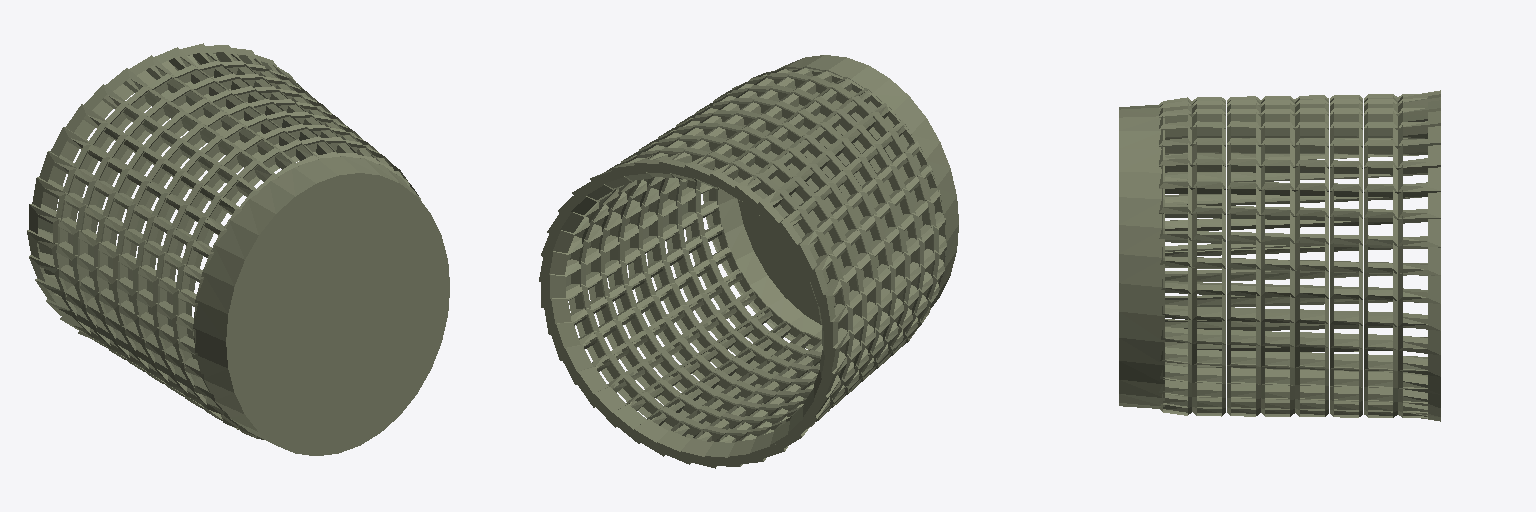
Rendered from LIXEIRA2a.obj.
3 renders of one model, left to right at view 1: azimuth 30°, elevation 25°; view 2: azimuth 150°, elevation 25°; view 3: azimuth 270°, elevation 25°, orthographic.
Size of the model in its own units: 5.1 by 4.9 by 4.8.